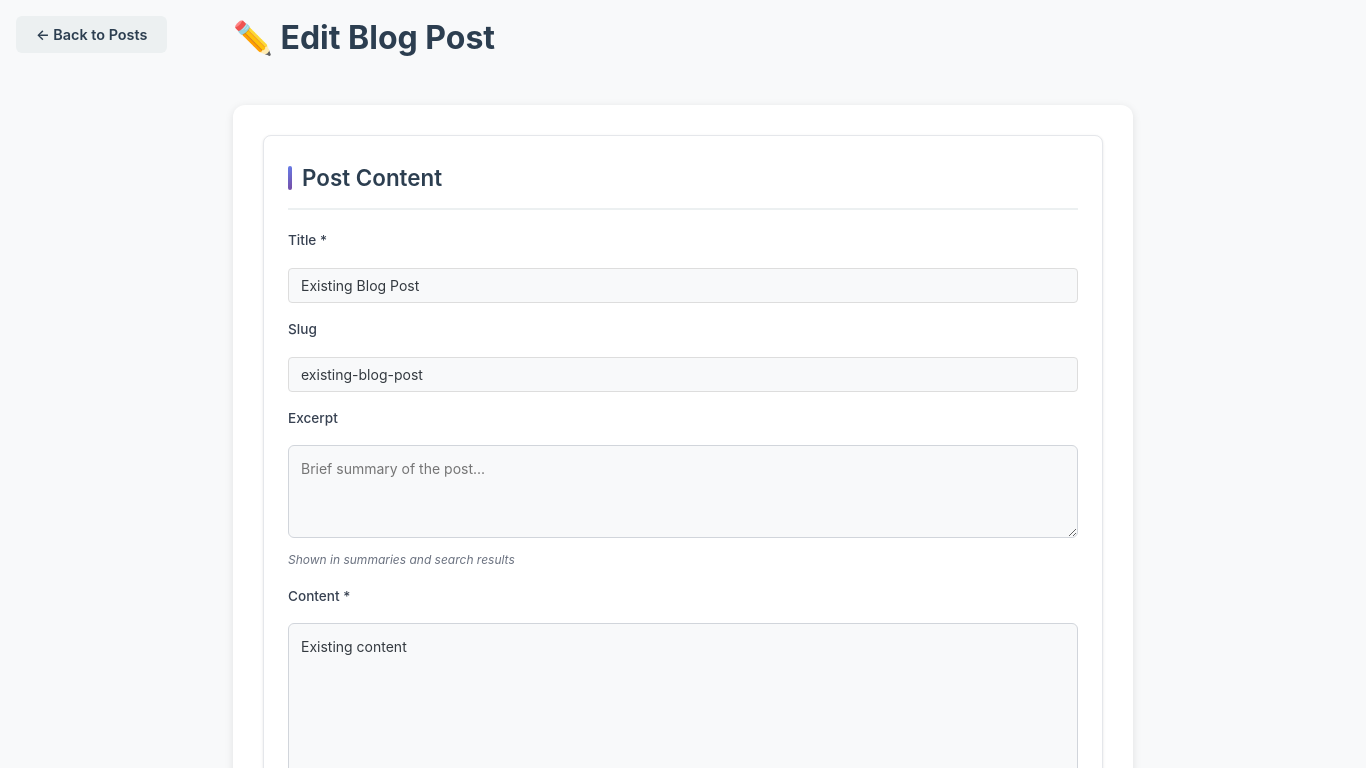
Test case: BlogPostForm Component › Edit Mode › should update existing blog post successfully
Clear the field labelled "Title *" at (683, 285), box x1=288 y1=268 x2=1078 y2=303
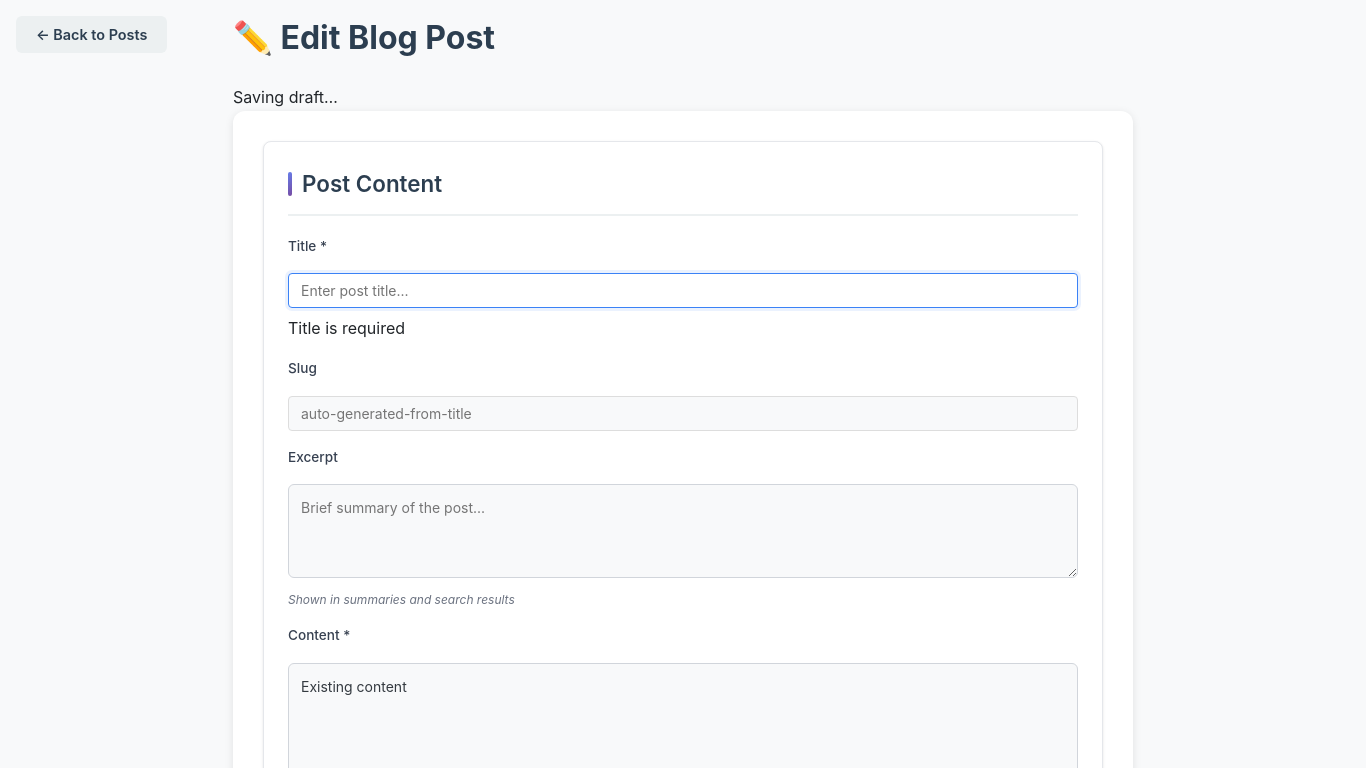
Type "Updated Blog Post" into the field labelled "Title *" at (683, 291), box x1=288 y1=273 x2=1078 y2=308
(page scrolled)
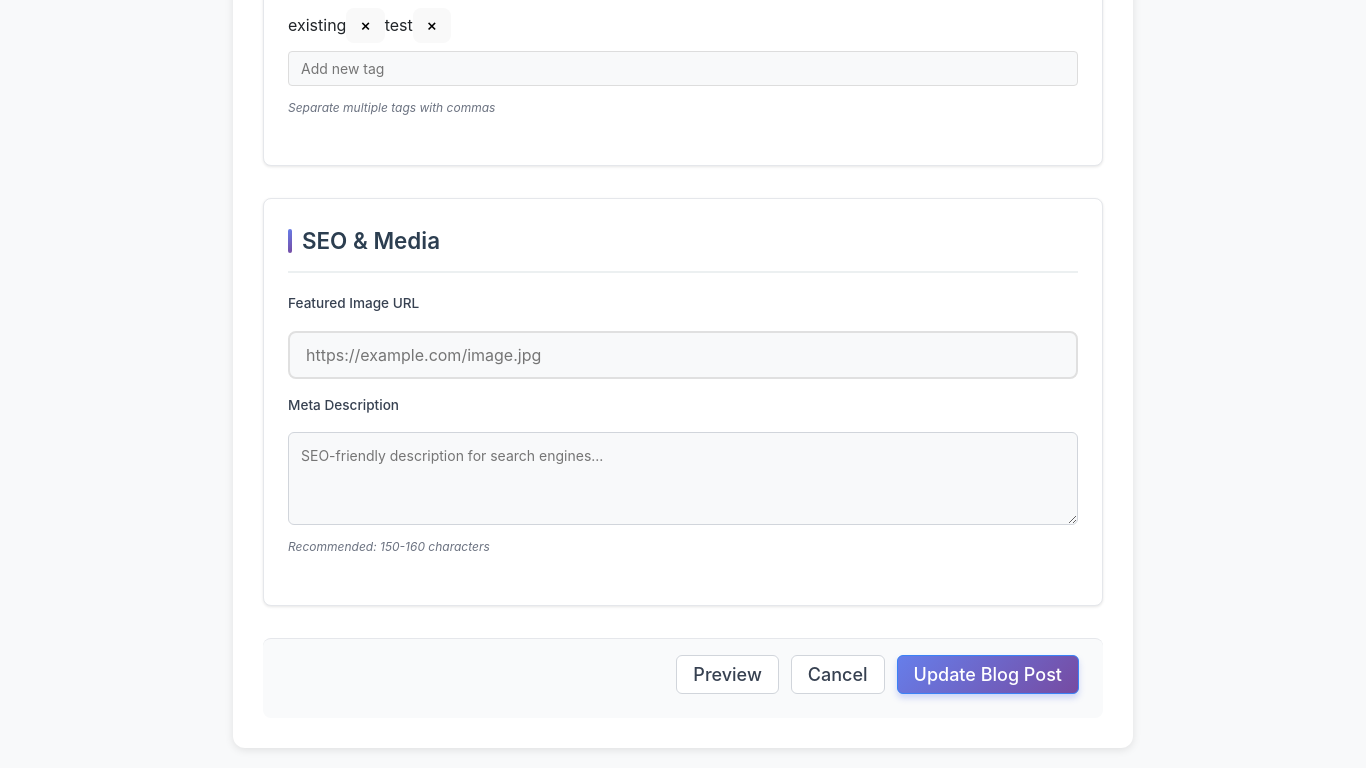
Click the button "Update Blog Post" at (988, 674), box x1=897 y1=655 x2=1079 y2=694
(page scrolled)
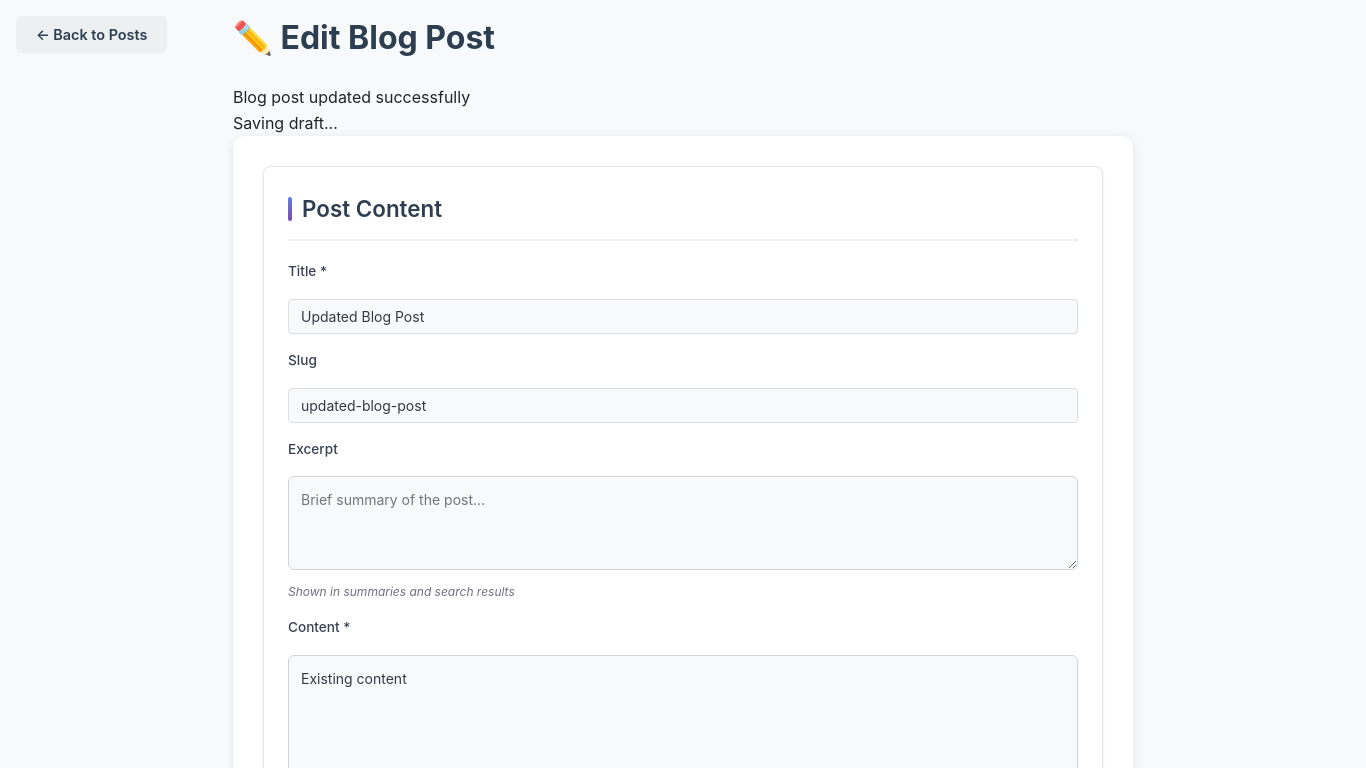
Now the text "Blog post updated successfully" is shown, box x1=233 y1=87 x2=470 y2=107
